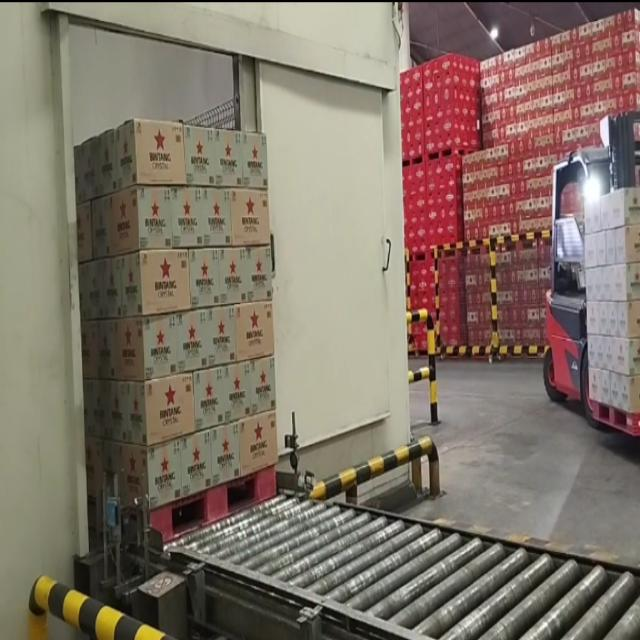pallet: (56, 104, 288, 562)
